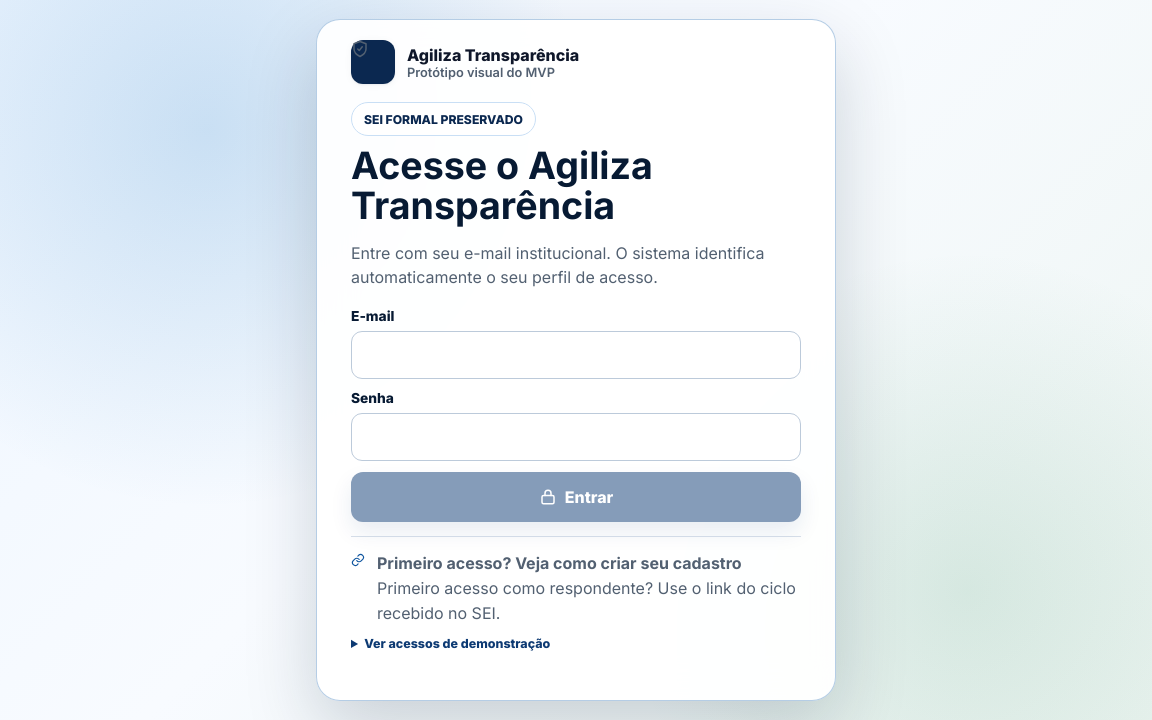
it: Agiliza Transparência › sidebar de Analista STC mantém somente os destinos persistentes
Type "analista@stc.ma.gov.br" into the field labelled "E-mail".
click(576, 355); type("analista@stc.ma.gov.br")  # box x1=351 y1=331 x2=801 y2=379
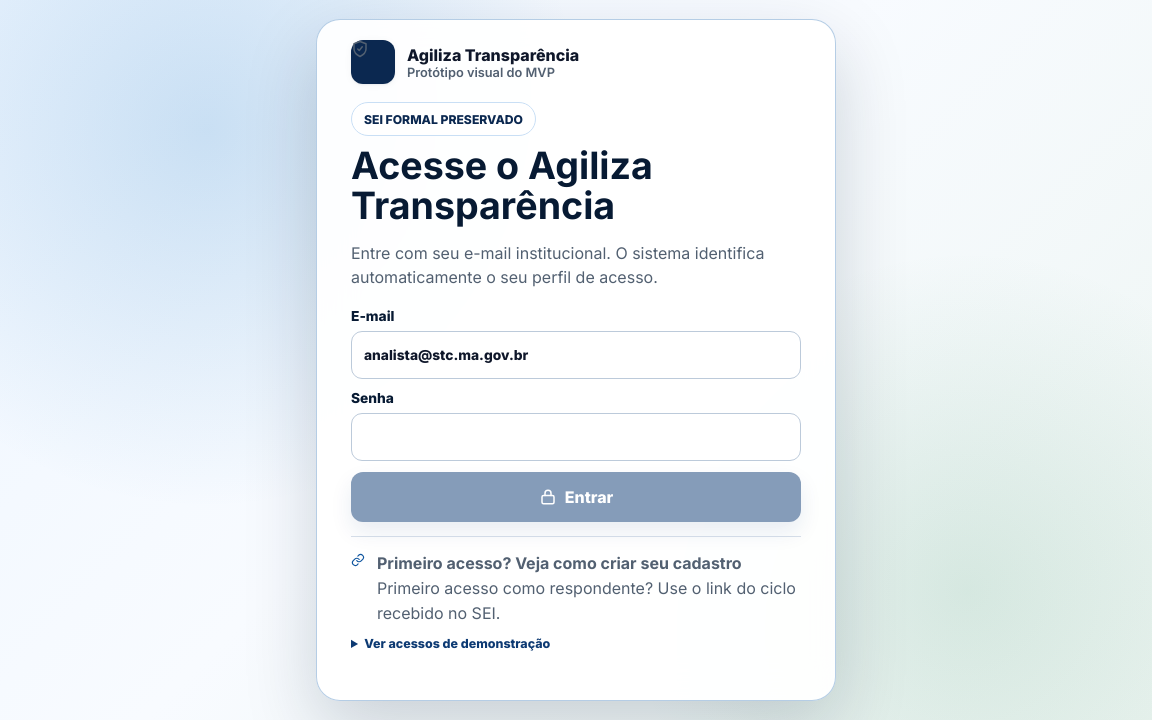
Type "senha-simulada" into the password field labelled "Senha".
click(576, 437); type("senha-simulada")  # box x1=351 y1=413 x2=801 y2=461
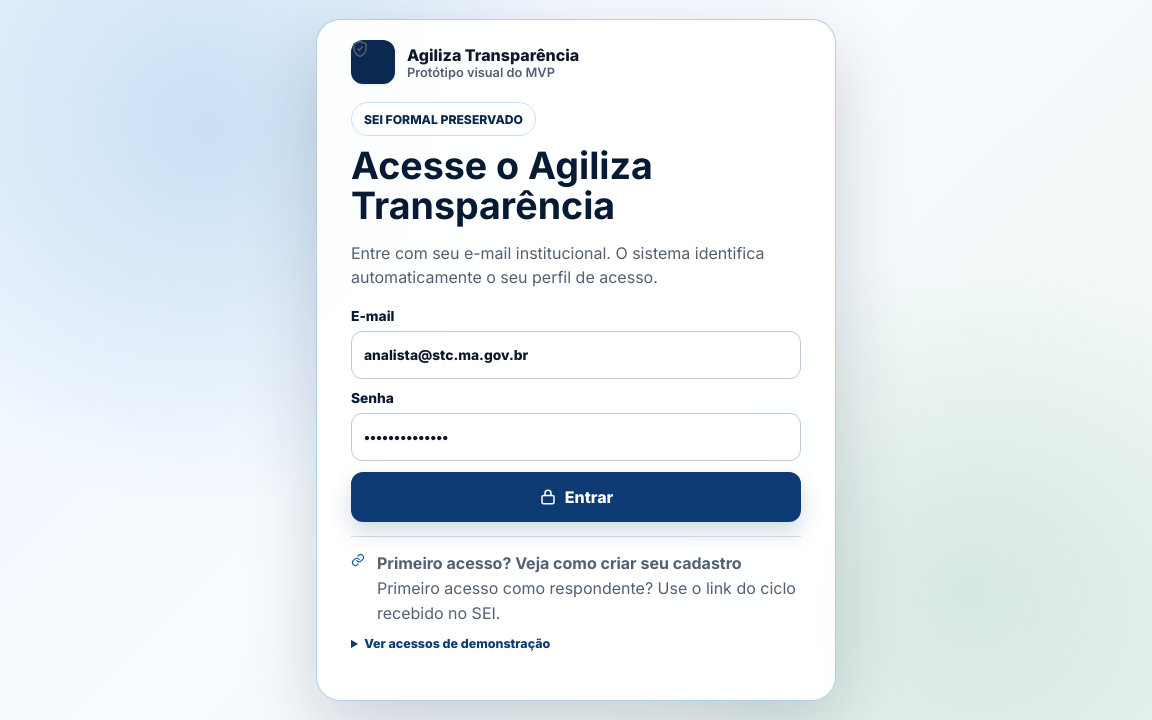
Click the button "Entrar".
click(576, 497)  # box x1=351 y1=472 x2=801 y2=522
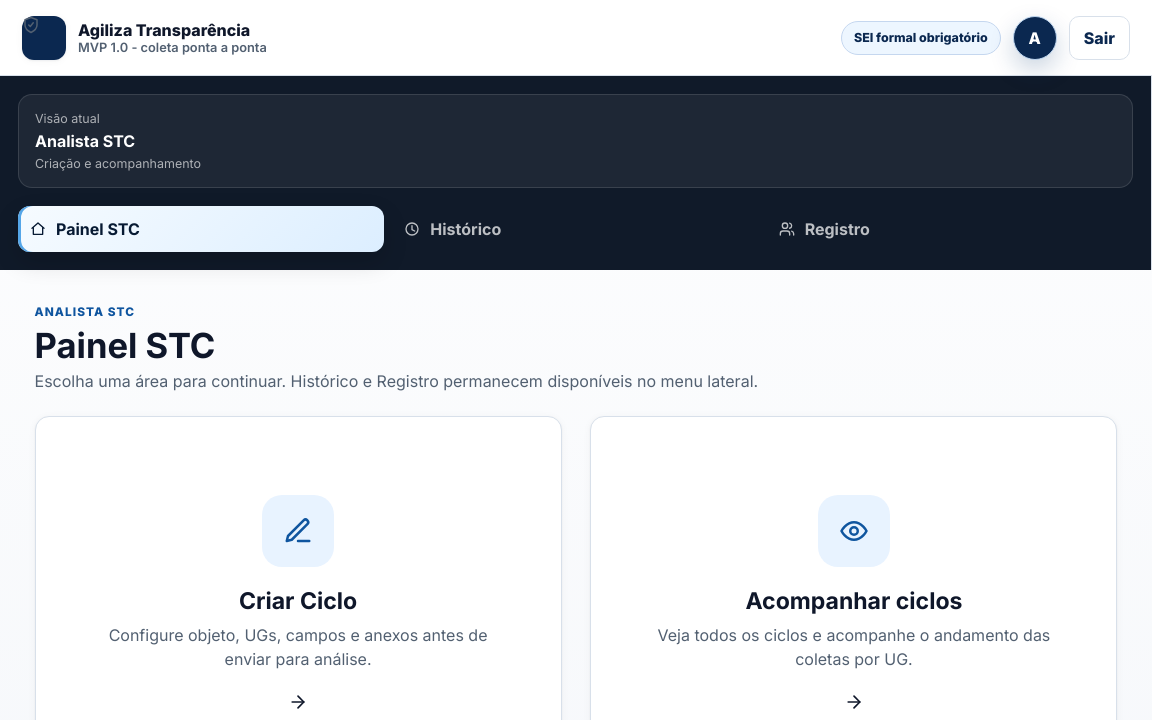
Result: the buttons read "Painel STC", "Histórico", "Registro", in this order at x1=18 y1=206 x2=384 y2=252; x1=392 y1=206 x2=759 y2=252; x1=767 y1=206 x2=1133 y2=252
